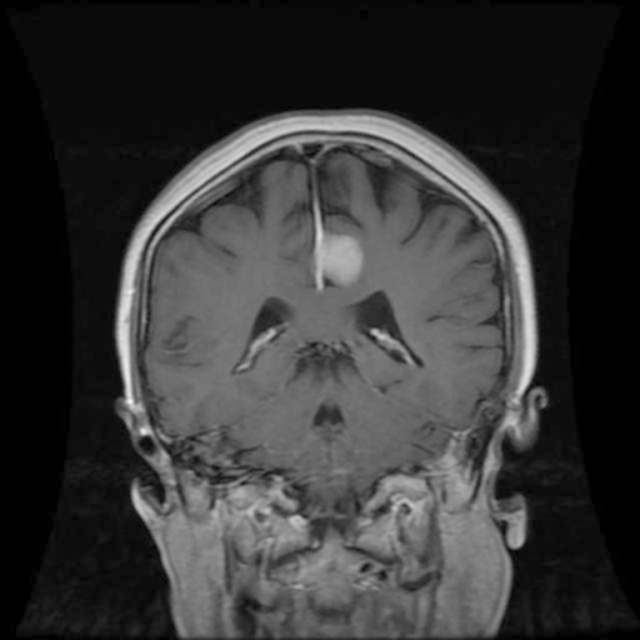meningioma tumor: (302, 224, 372, 288)
